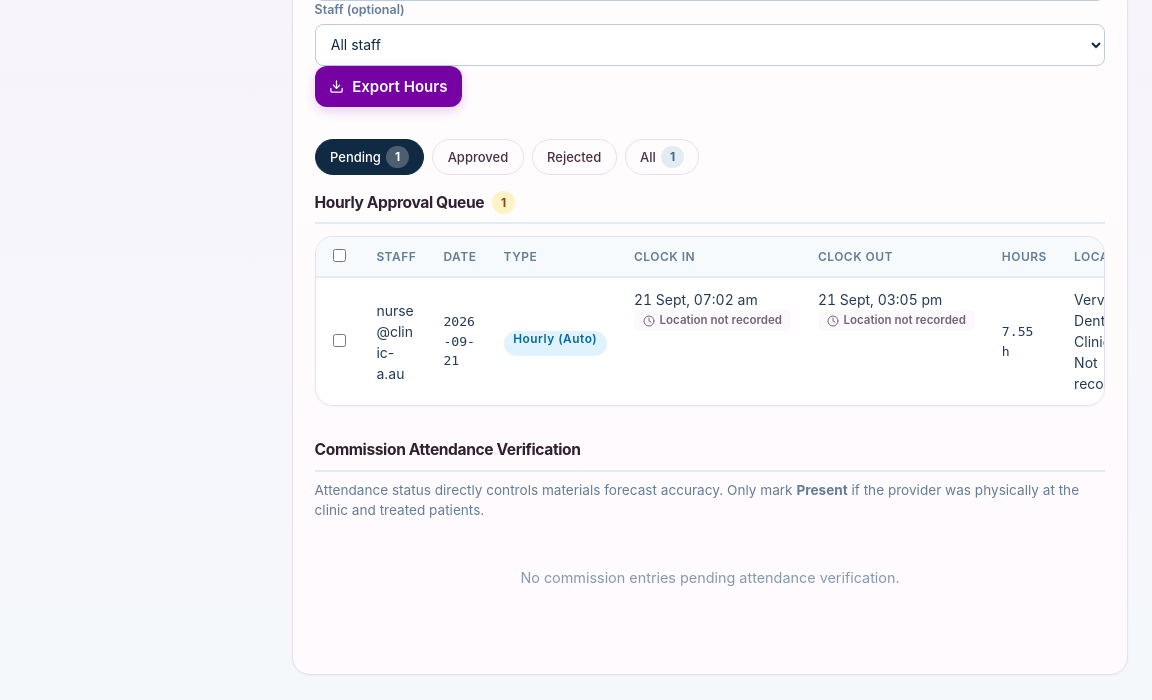
Test case: ApprovalQueue — bulk selection checkboxes › bulk action bar appears with correct count when one row is selected
The width and height of the screenshot is (1152, 700).
(page scrolled)
Expected: the cell "nurse@clinic-a.au" is shown, [363,277,430,405]
Click the checkbox named "select timesheet for" at (340, 341), box [333,334,346,347]
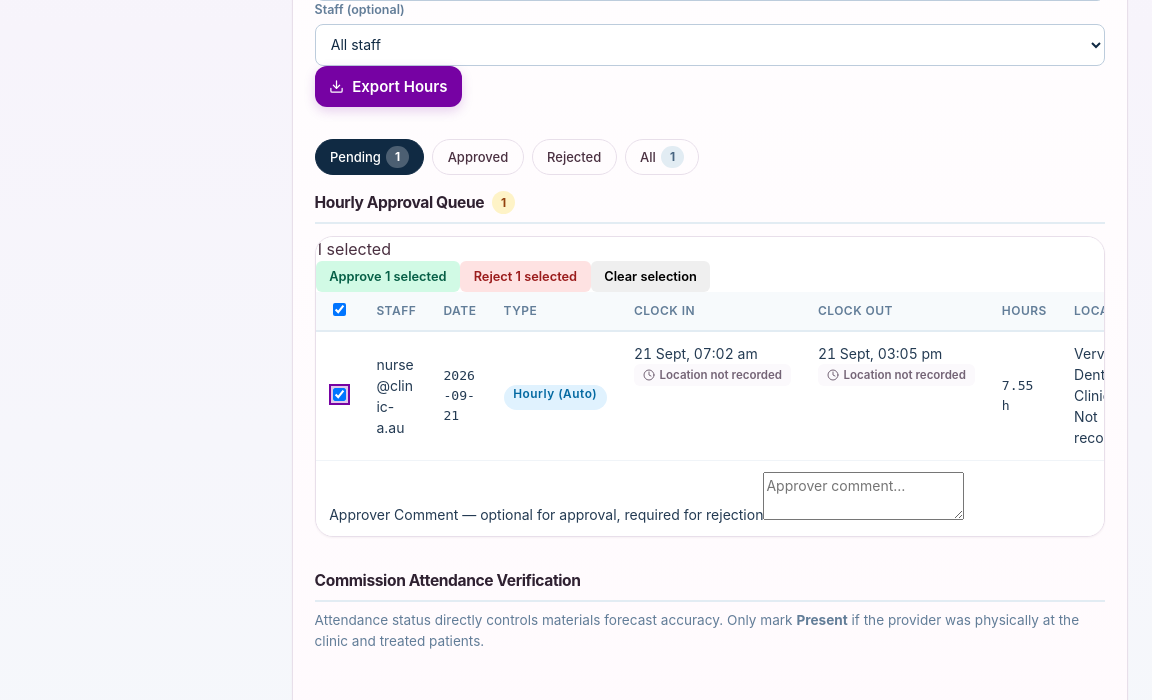
Expected: the element named "bulk actions" is shown, [316,239,710,292]
Expected: the text "1 selected" is shown, [316,239,391,259]
Expected: the button "Approve 1 selected" is shown, [316,261,460,292]
